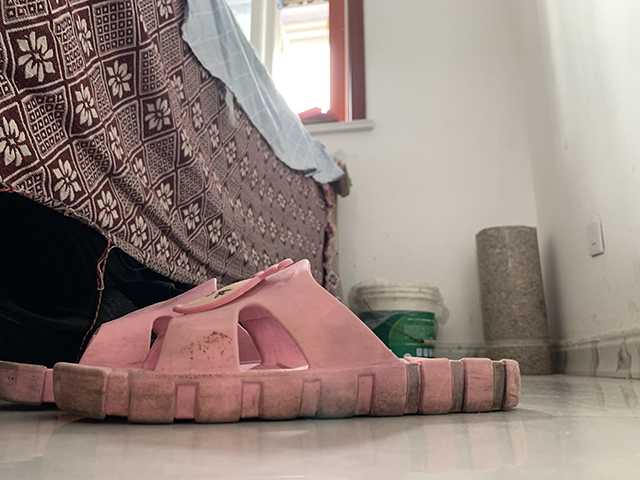bed: (1, 1, 354, 383)
slippers: (2, 257, 524, 426)
